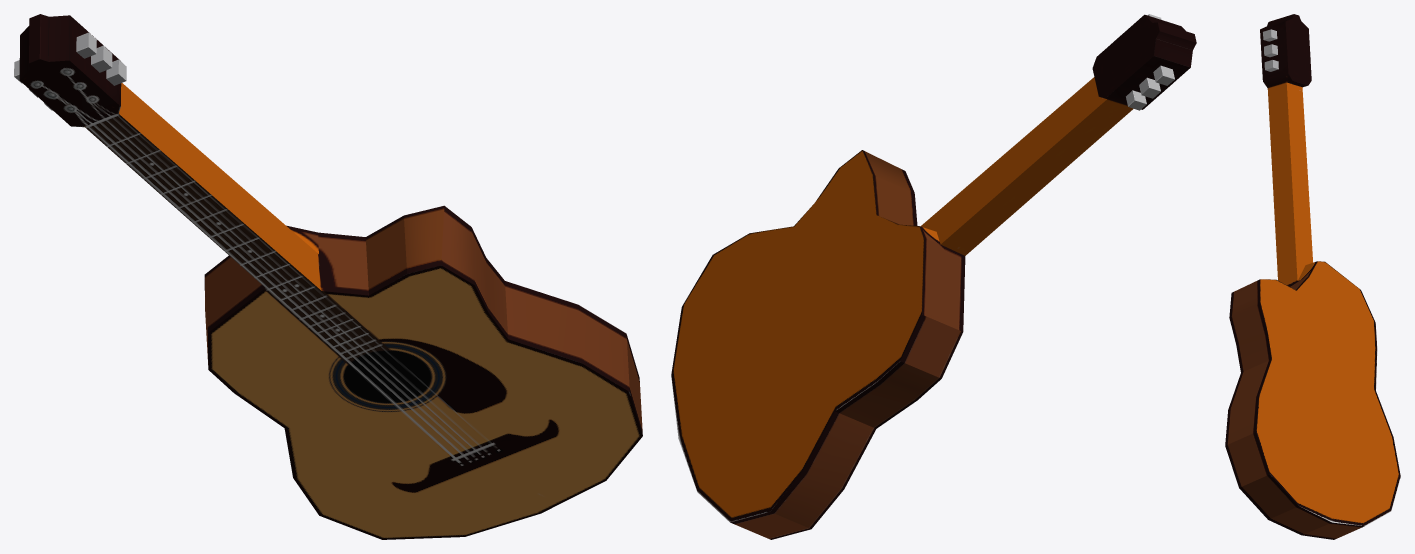
File: Guitarra3_000008.obj
The picture shows the model from 3 angles, left to right: view 1: azimuth 30°, elevation 25°; view 2: azimuth 150°, elevation 25°; view 3: azimuth 270°, elevation 25°; orthographic projection. The views are drawn at different scales.
Parts seen in each view (by area): view 1: Guitarra_2:pPlane4; view 2: Guitarra_2:pPlane4; view 3: Guitarra_2:pPlane4.
Boxes of the visible parts, left/top/right/bottom form: Guitarra_2:pPlane4: left=14, top=14, right=642, bottom=539; Guitarra_2:pPlane4: left=671, top=14, right=1196, bottom=539; Guitarra_2:pPlane4: left=1225, top=14, right=1400, bottom=539.
Bounding box in the file's own units: 9.76 × 10.16 × 4.09.
